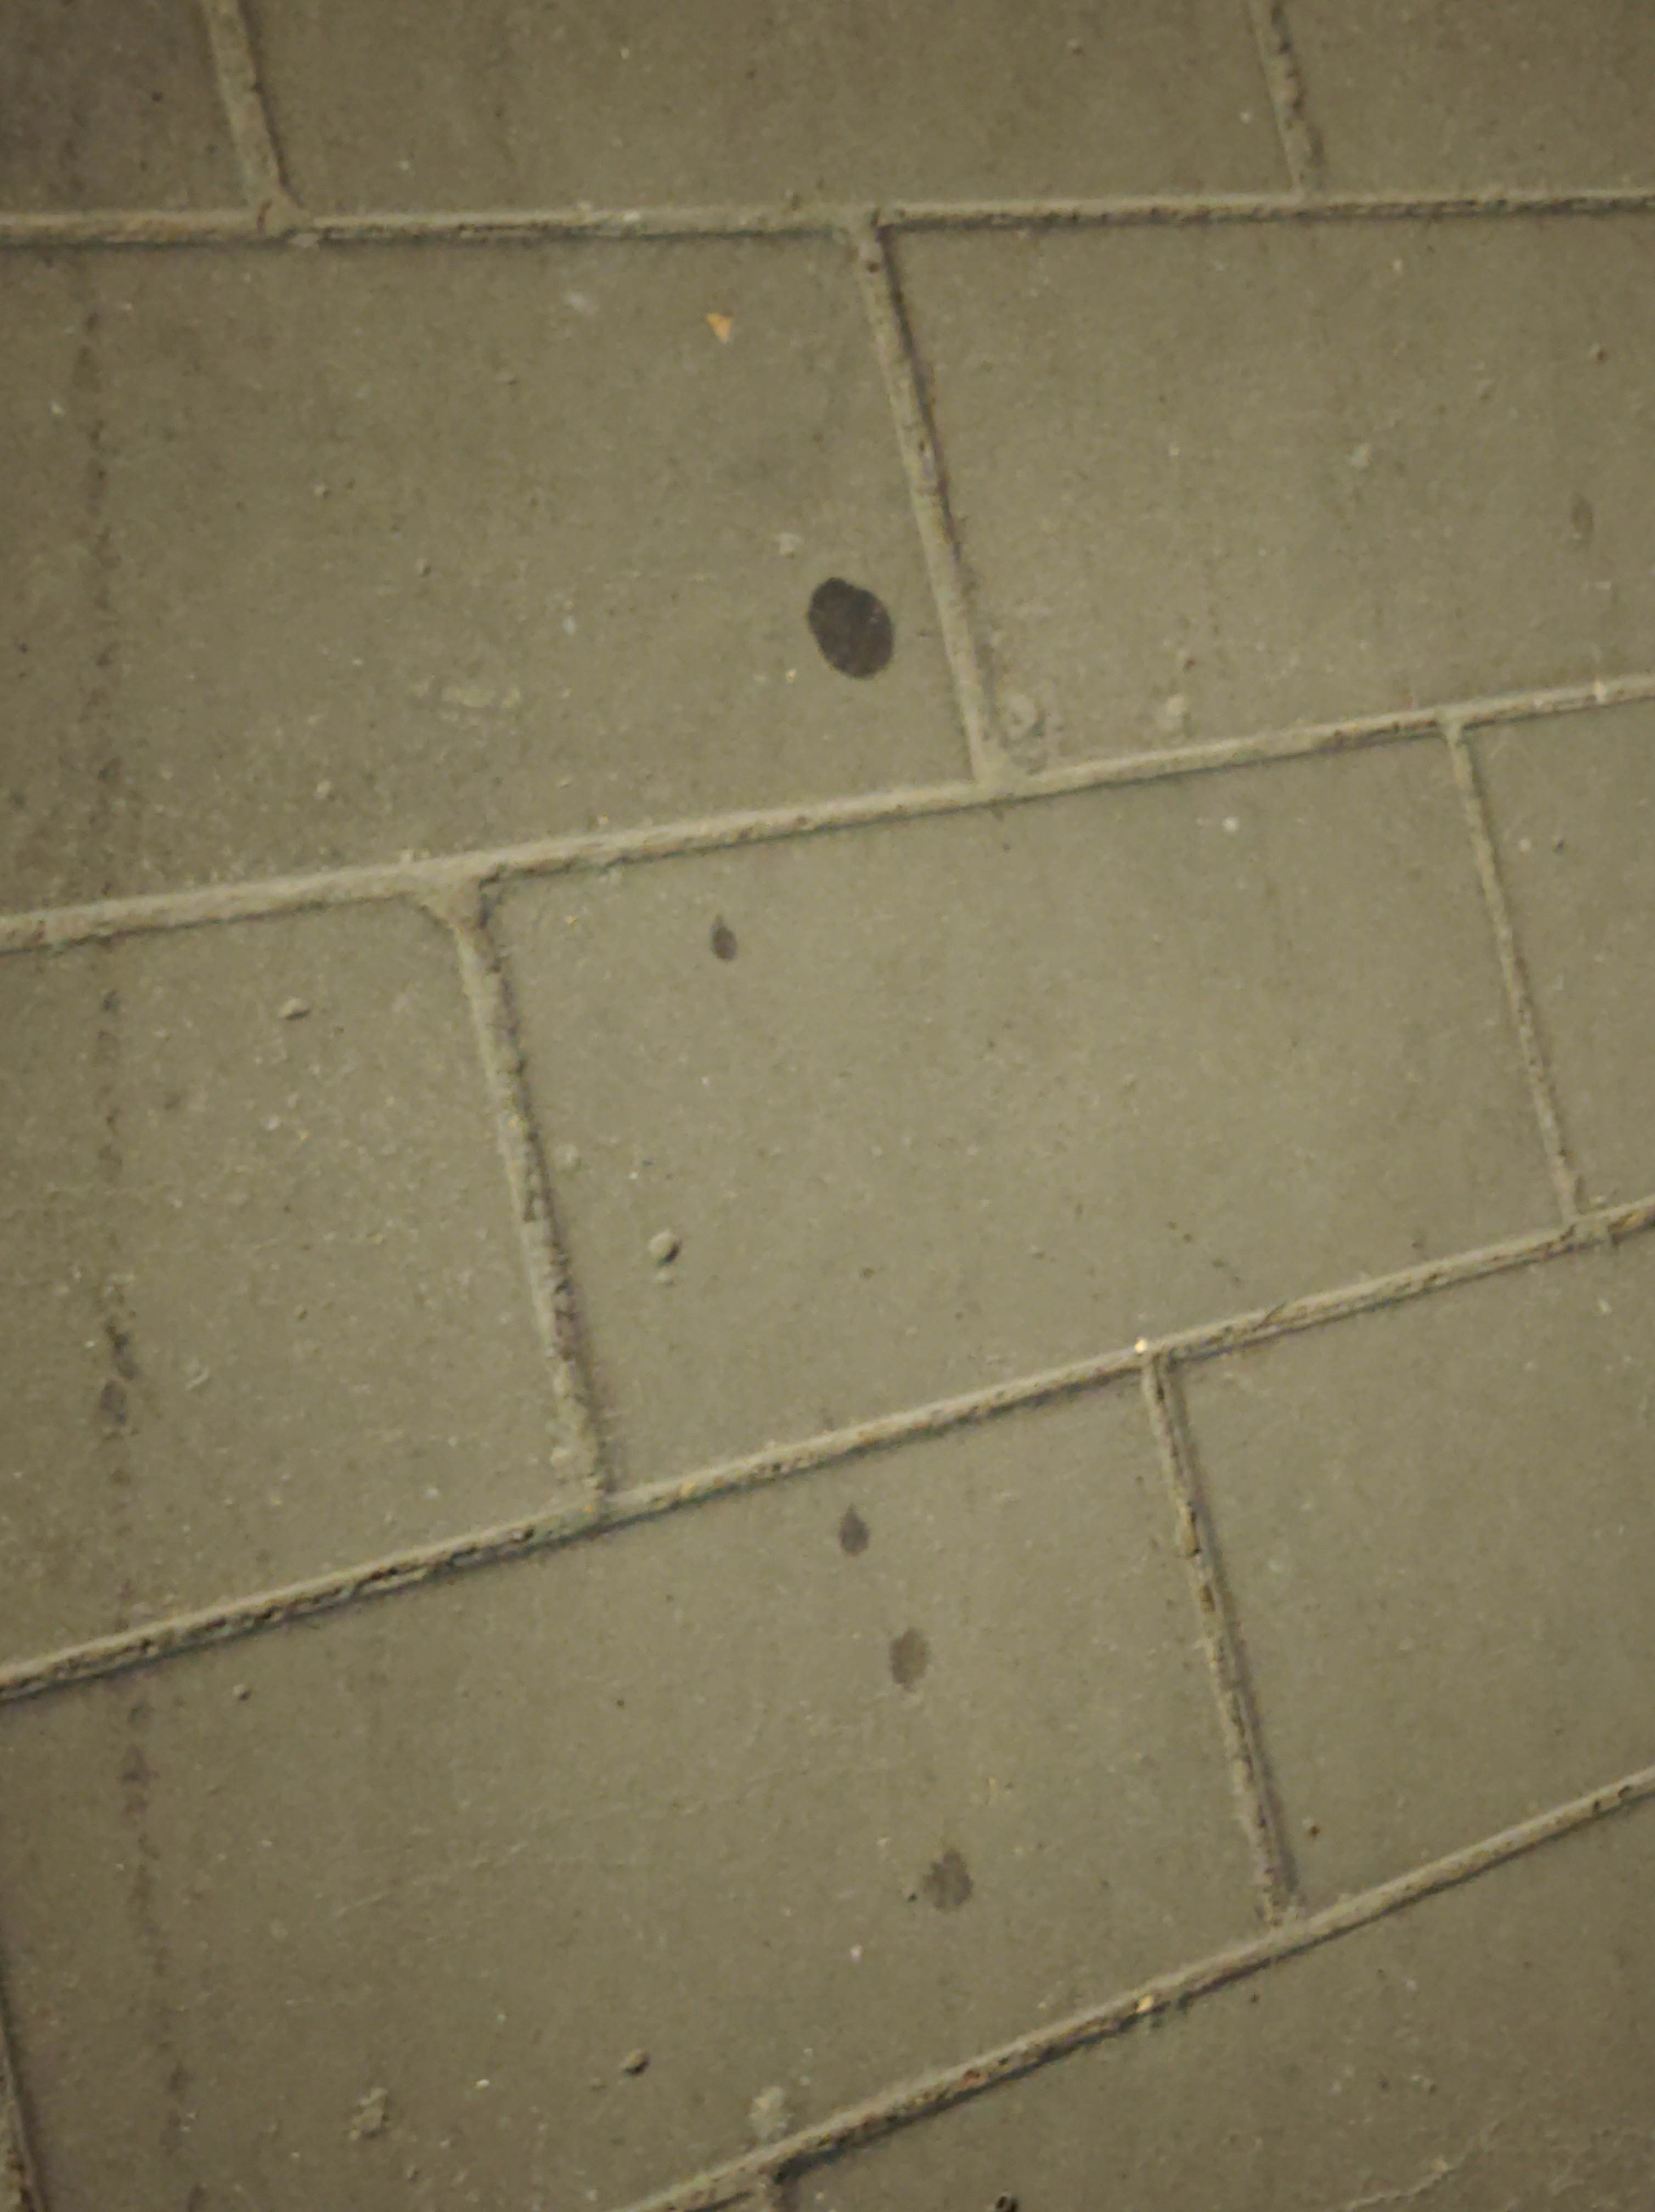grey spot: (801, 577, 897, 679), (907, 1847, 972, 1917), (894, 1630, 930, 1696), (841, 1501, 869, 1553), (711, 919, 737, 959)
